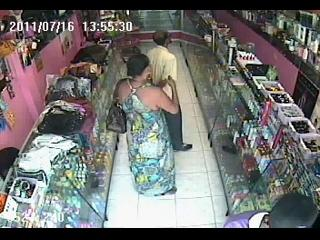Normal: (113, 54, 181, 197), (146, 30, 192, 153), (222, 192, 320, 228), (106, 104, 127, 134)
